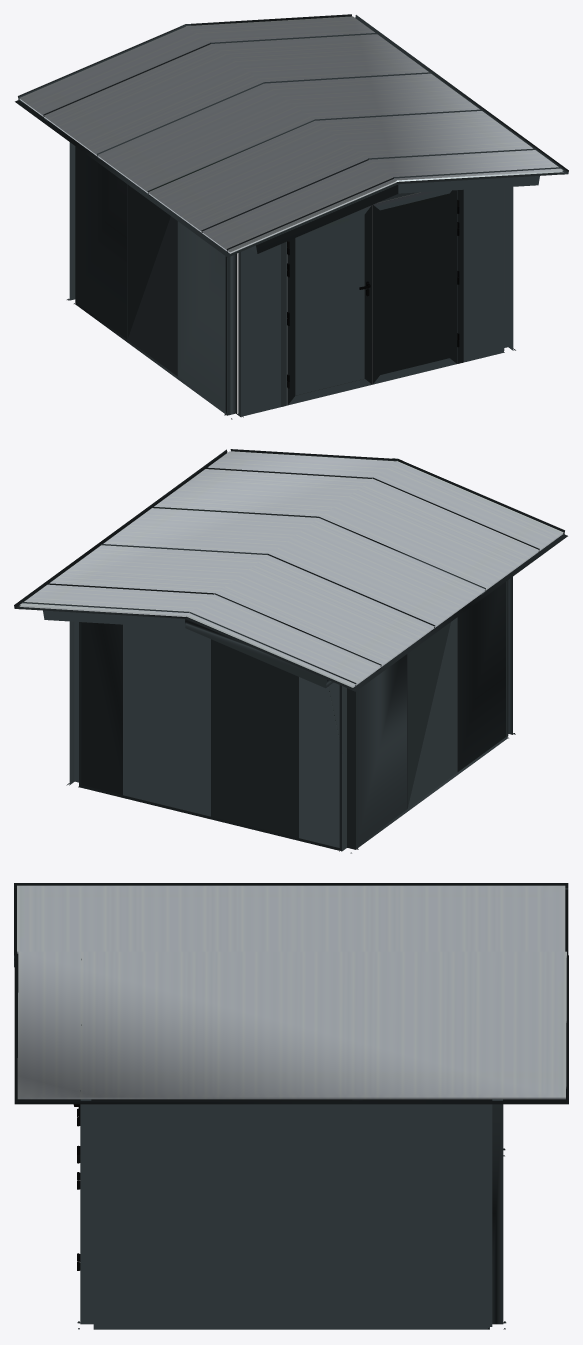
The picture shows the model from 3 angles, top to bottom: view 1: azimuth 30°, elevation 25°; view 2: azimuth 150°, elevation 25°; view 3: azimuth 270°, elevation 25°; orthographic projection. The views are drawn at different scales.
Visible parts, largest first — view 1: priximbattable_net_abris_de_jardin_640004_abri_de_jardin_orc, folha, folha_2, porta_1; view 2: priximbattable_net_abris_de_jardin_640004_abri_de_jardin_orc; view 3: priximbattable_net_abris_de_jardin_640004_abri_de_jardin_orc.
Boxes of the visible parts, left/top/right/bottom form: priximbattable_net_abris_de_jardin_640004_abri_de_jardin_orc: left=15, top=14, right=568, bottom=419; folha: left=372, top=190, right=459, bottom=384; folha_2: left=287, top=205, right=372, bottom=405; porta_1: left=281, top=189, right=463, bottom=406; priximbattable_net_abris_de_jardin_640004_abri_de_jardin_orc: left=14, top=449, right=567, bottom=853; priximbattable_net_abris_de_jardin_640004_abri_de_jardin_orc: left=14, top=883, right=568, bottom=1329.
Bounding box in the file's own units: 389 × 243 × 421.
1 material, 1 textured.
